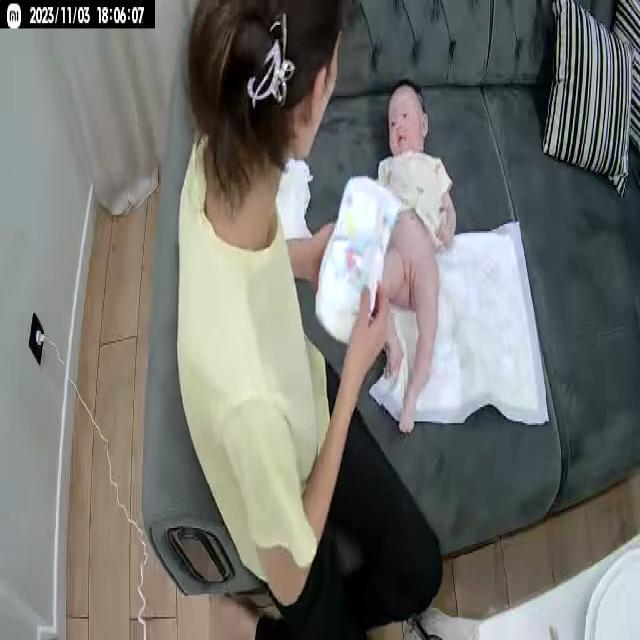baby: (344, 78, 466, 426)
